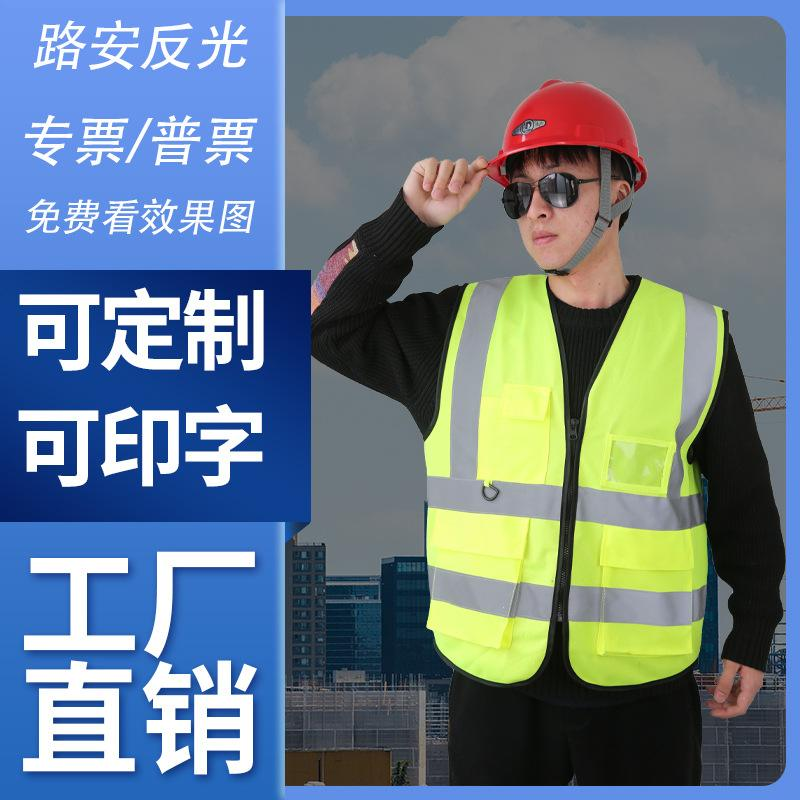person: (310, 73, 786, 786)
reflective_vest: (418, 272, 732, 689)
safety_helmet: (483, 74, 653, 273)
